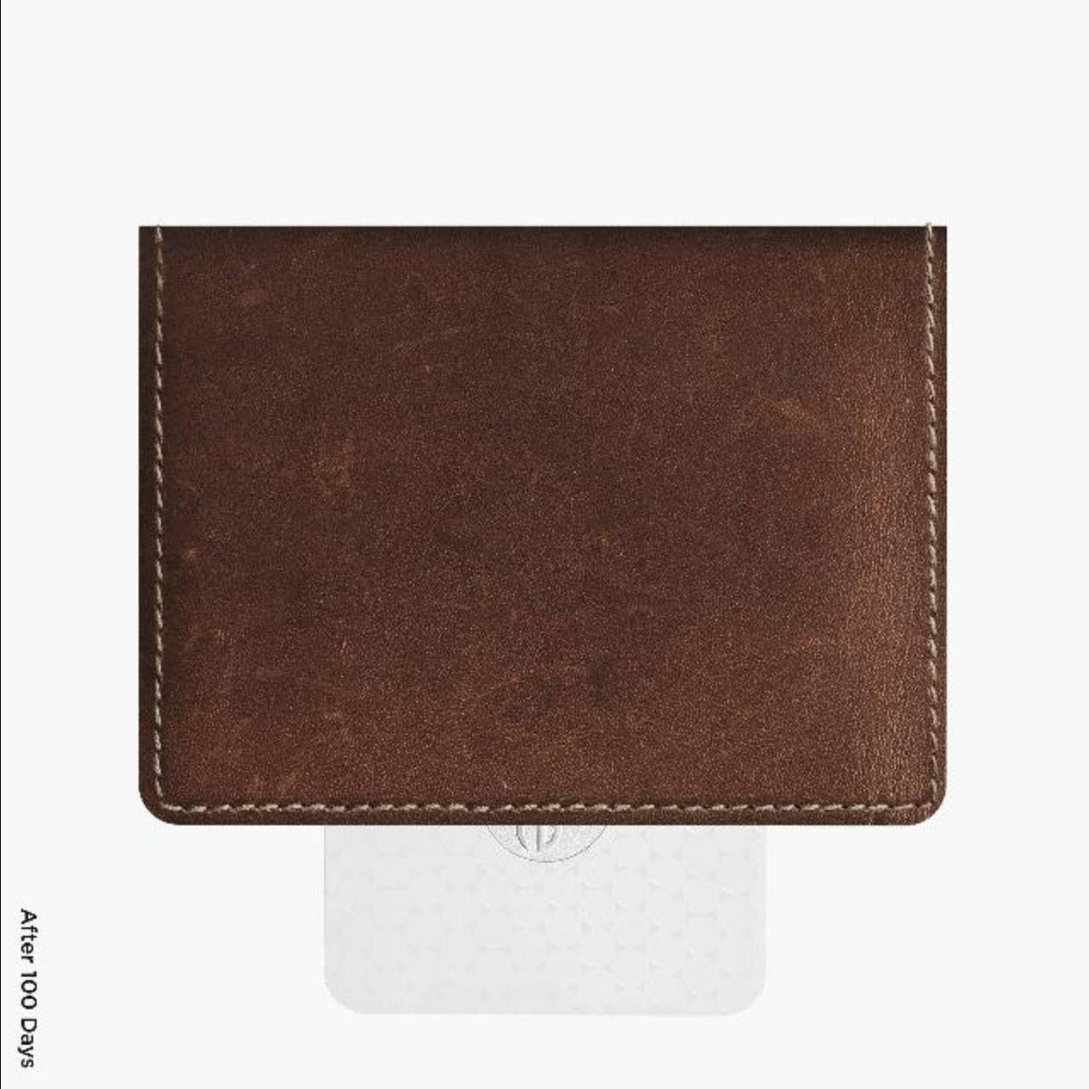wallet: (125, 200, 964, 843)
